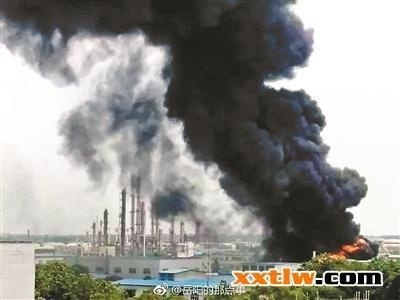fire: (327, 237, 367, 258)
